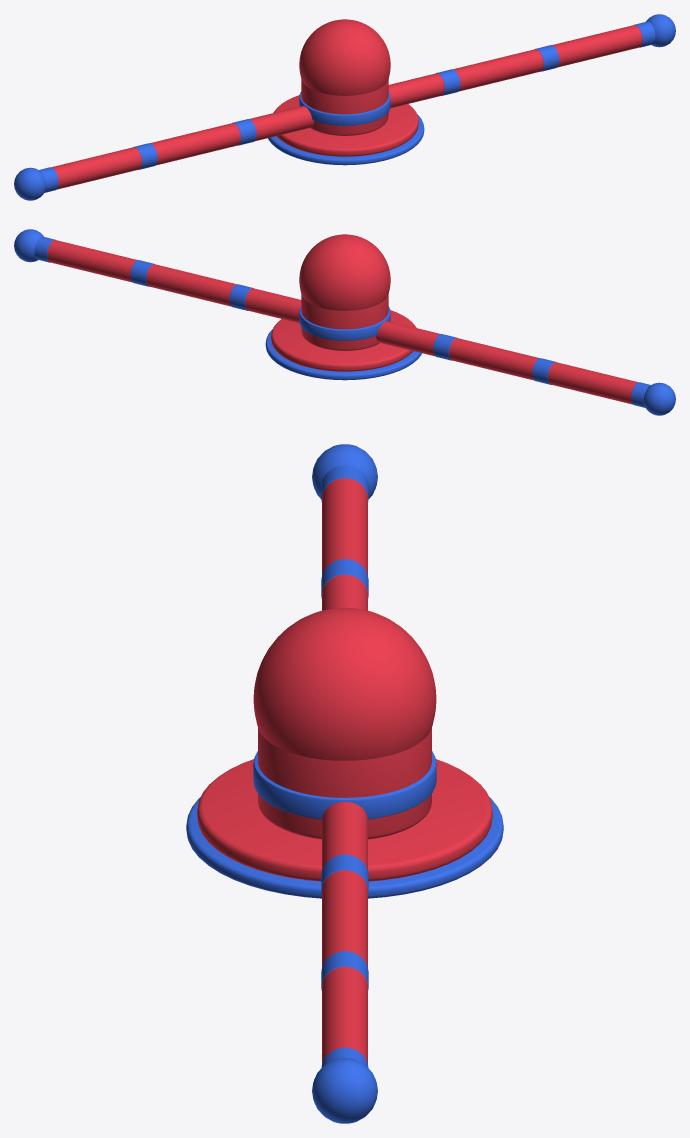
The model's file is SD_Sweeper_Large.fbx.
3 views of the same model, one above another, from view 1: azimuth 30°, elevation 25°; view 2: azimuth 150°, elevation 25°; view 3: azimuth 270°, elevation 25° (orthographic). The views are drawn at different scales.
Visible parts, largest first — view 1: Arm, Base; view 2: Arm, Base; view 3: Base, Arm.
Boxes of the visible parts, <box> form: Arm: <box>14,14,675,200</box>; Base: <box>268,19,424,165</box>; Arm: <box>14,229,675,415</box>; Base: <box>265,234,421,380</box>; Base: <box>186,607,503,898</box>; Arm: <box>312,444,377,1123</box>.
Bounding box in the file's own units: 13.8 × 2.18 × 2.88.
